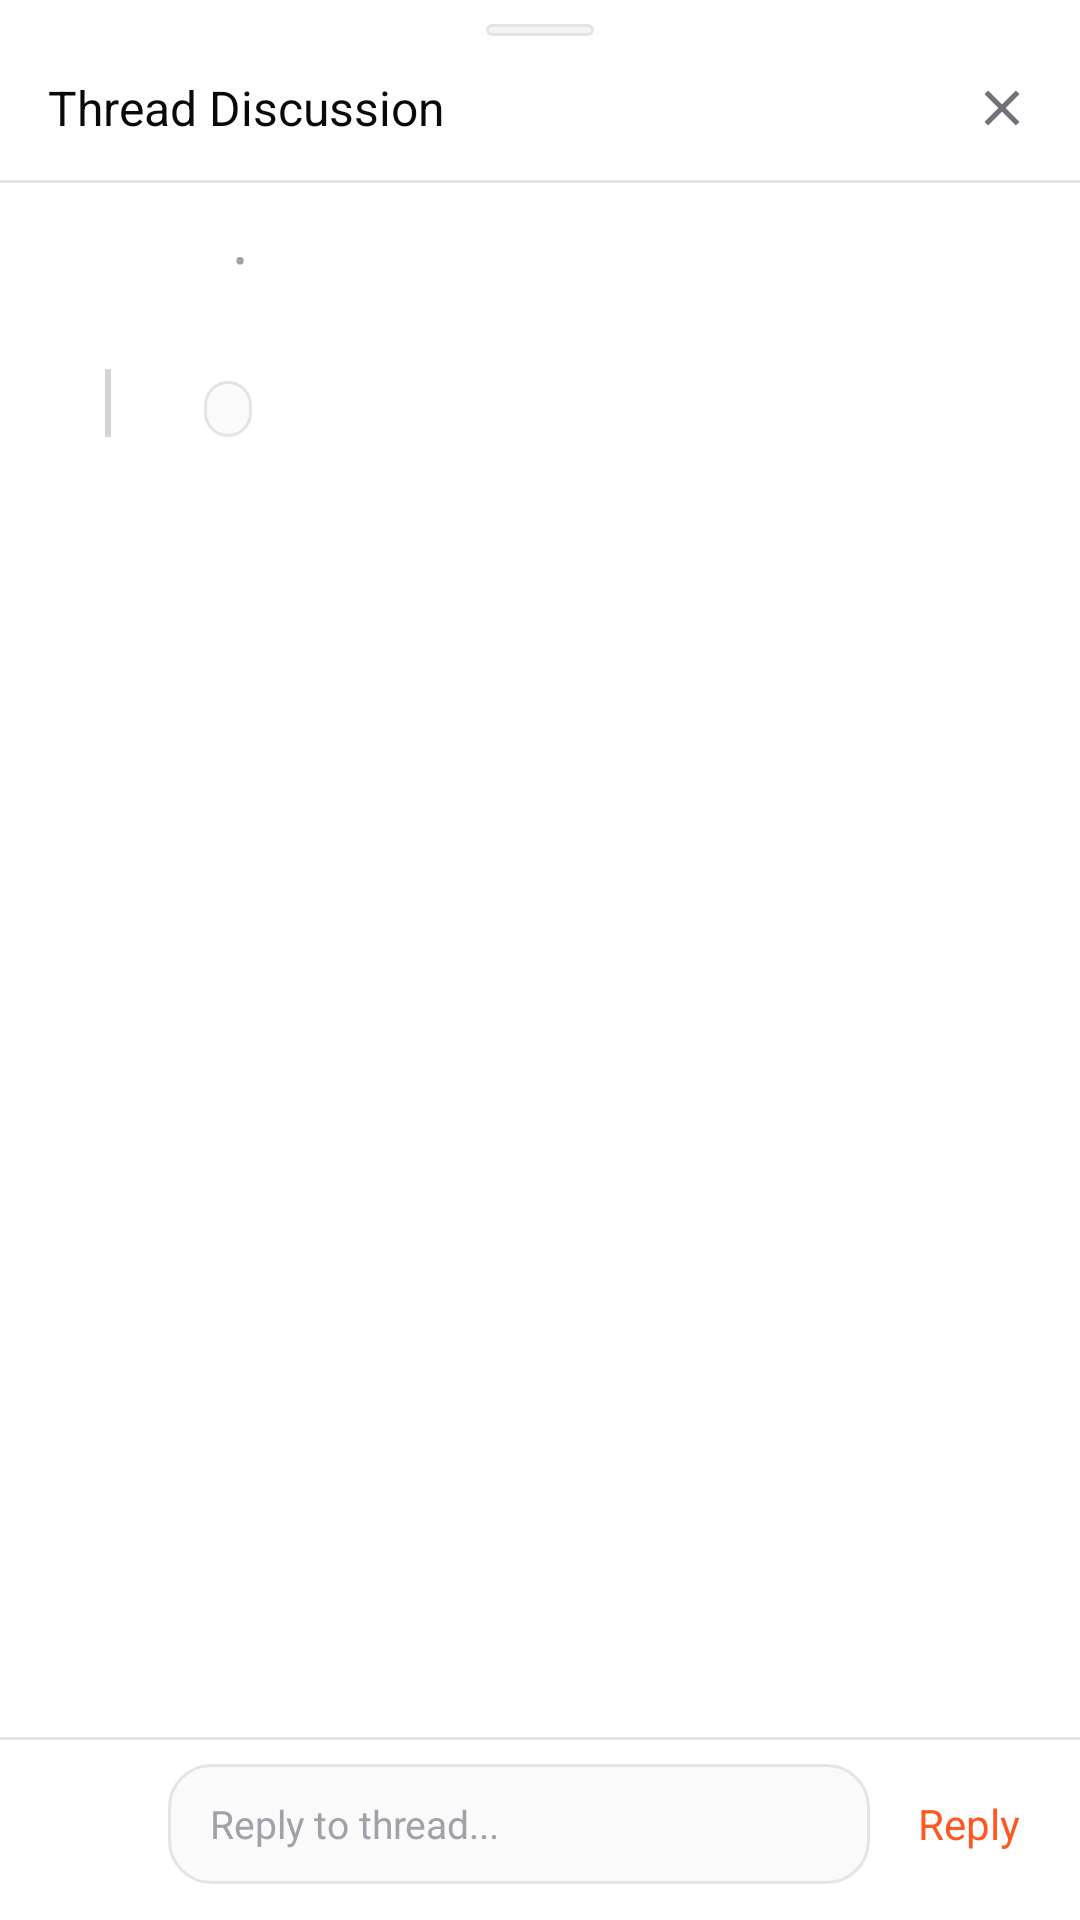

Icon click points for this 1080px x 1920px phone screenshot, format point (x, y):
Close: point (1002, 108)
